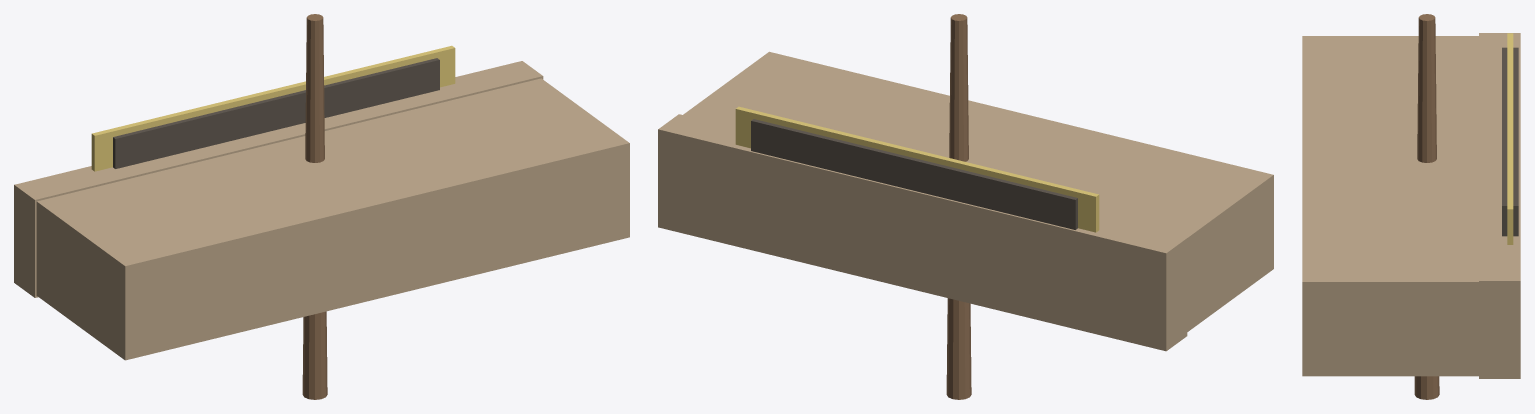
File: ollivander_box.glb
3 renders of one model, left to right at view 1: azimuth 30°, elevation 25°; view 2: azimuth 150°, elevation 25°; view 3: azimuth 270°, elevation 25°, orthographic.
Visible parts, largest first — view 1: body, lid, label, mini_wand, trim; view 2: lid, body, label, mini_wand, trim; view 3: body, lid, mini_wand, label, trim.
Boxes of the visible parts, x1,y1,x2,y2 form: body: (36,78,629,360); lid: (14,61,543,297); label: (113,58,439,168); mini_wand: (302,14,327,399); trim: (91,45,455,171); lid: (658,114,1187,351); body: (683,51,1273,331); label: (751,119,1077,229); mini_wand: (946,14,971,399); trim: (735,106,1099,232); body: (1302,36,1478,376); lid: (1479,33,1520,378); mini_wand: (1414,14,1439,399); label: (1502,47,1518,236); trim: (1507,33,1513,244).
Bounding box in the file's own units: 0.282 × 0.2 × 0.105.
